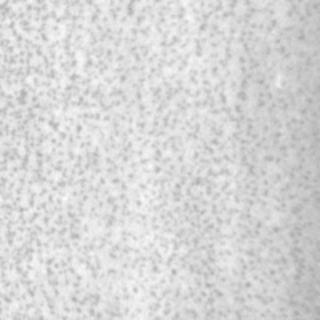pitted_surface: (1, 0, 316, 318)
